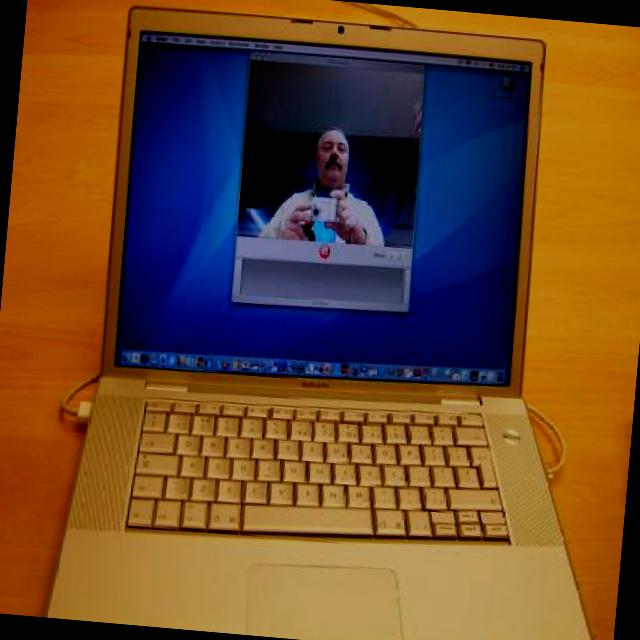Person: (258, 119, 394, 250)
